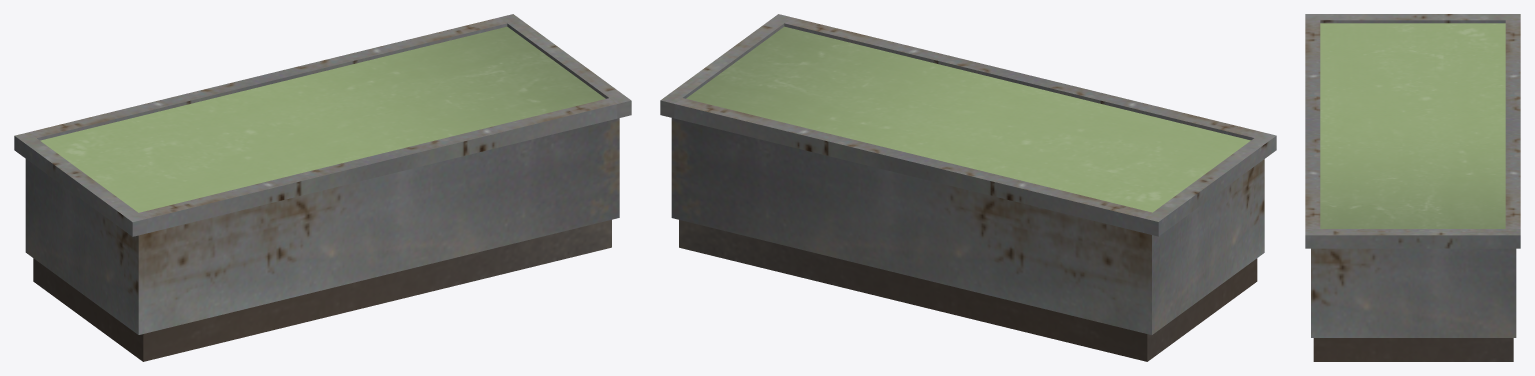
File: showcase020a.fbx
3 views of the same model, side by side, from view 1: azimuth 30°, elevation 25°; view 2: azimuth 150°, elevation 25°; view 3: azimuth 270°, elevation 25° (orthographic). The views are drawn at different scales.
Parts seen in each view (by area): view 1: showcase020a; view 2: showcase020a; view 3: showcase020a.
Part boxes in pixels (x1,y1,x2,y2): showcase020a: [14, 14, 631, 361]; showcase020a: [660, 14, 1276, 361]; showcase020a: [1305, 14, 1520, 361].
Bounding box in the file's own units: 2.9 × 0.8138 × 1.19.
